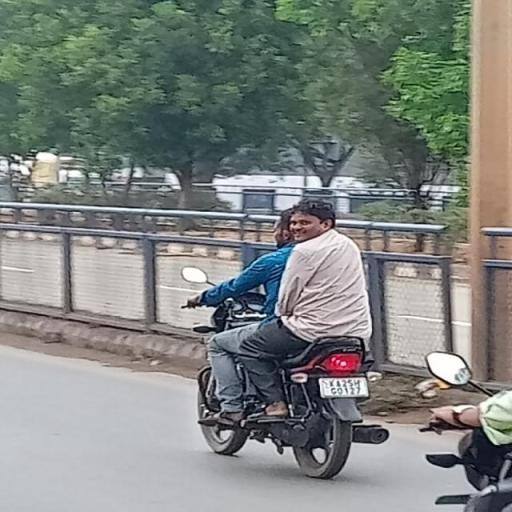bike: (176, 196, 416, 474)
numberplate: (318, 380, 370, 398)
withouthelmet: (290, 201, 333, 240), (276, 214, 291, 248)
